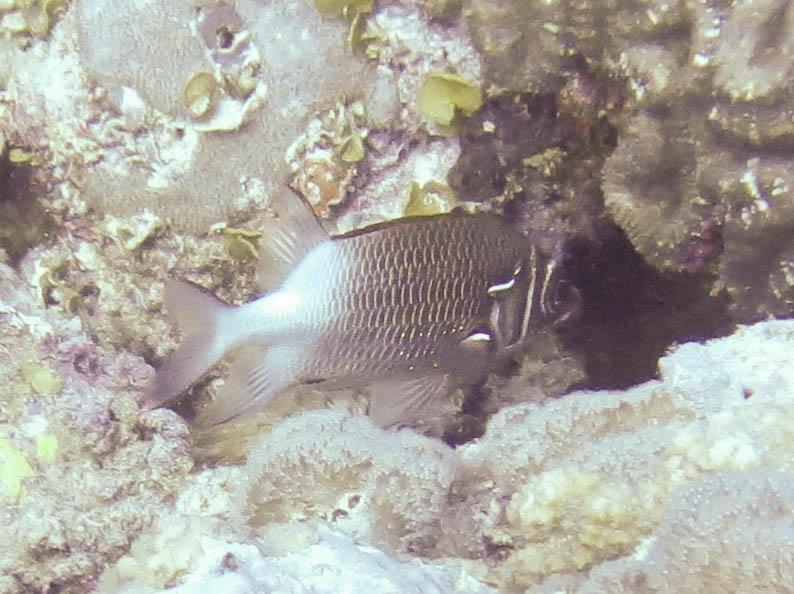Fish: (121, 180, 586, 428)
